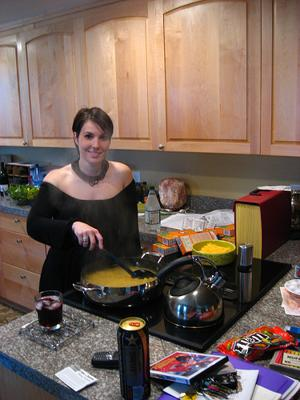person: (27, 106, 144, 301)
